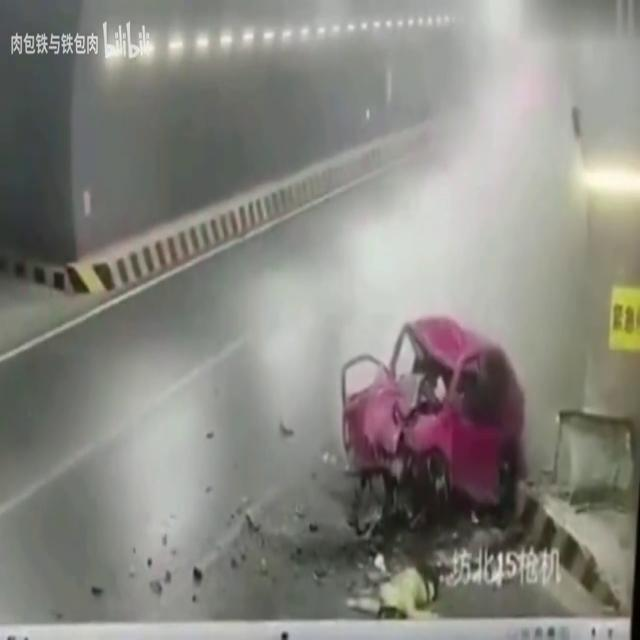accident: (339, 315, 519, 539)
